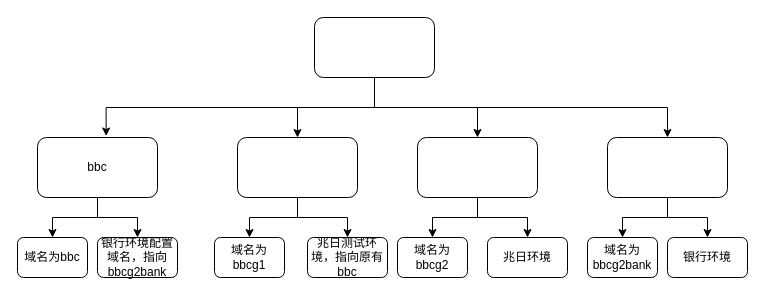
This 765x296 diagram has some shape labels left out. The box of each missing label's shape, as (x1, y1, x2, y2) in pixels:
bbcg1: (236, 136, 358, 198)
bbcg2: (416, 136, 538, 198)
bbcg2bank: (606, 136, 728, 198)
BBC形态: (314, 16, 434, 78)
